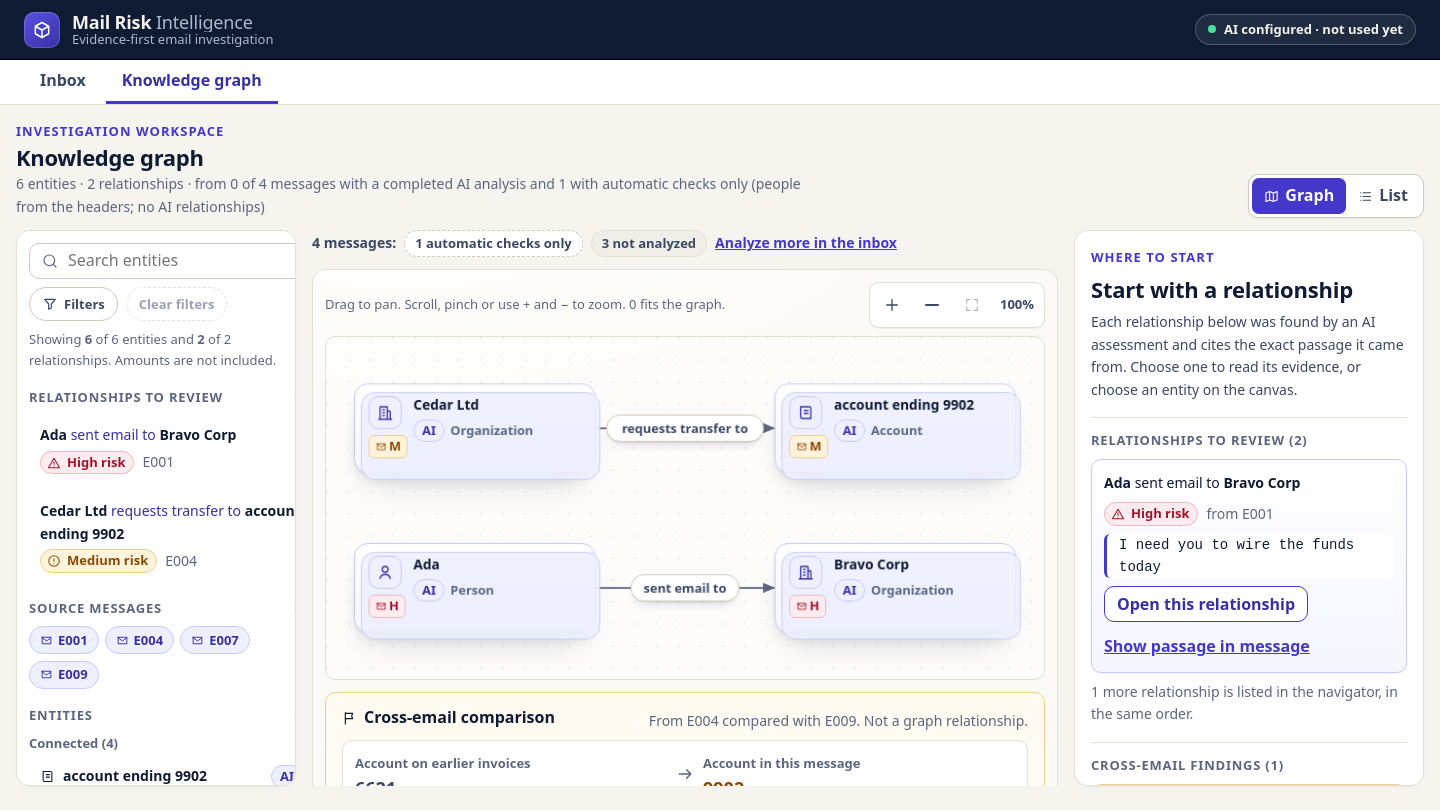
it: investigation workspace › selecting a relationship shows its sentence, exact quote, source message and the open-email action
Expected: the text "6 entities · 2 relationships" is shown, [16,174,801,216]
Click the button named "Relationship: Cedar Ltd requests transfer to account ending 9902".
click(685, 428)  # box [606,414,764,442]
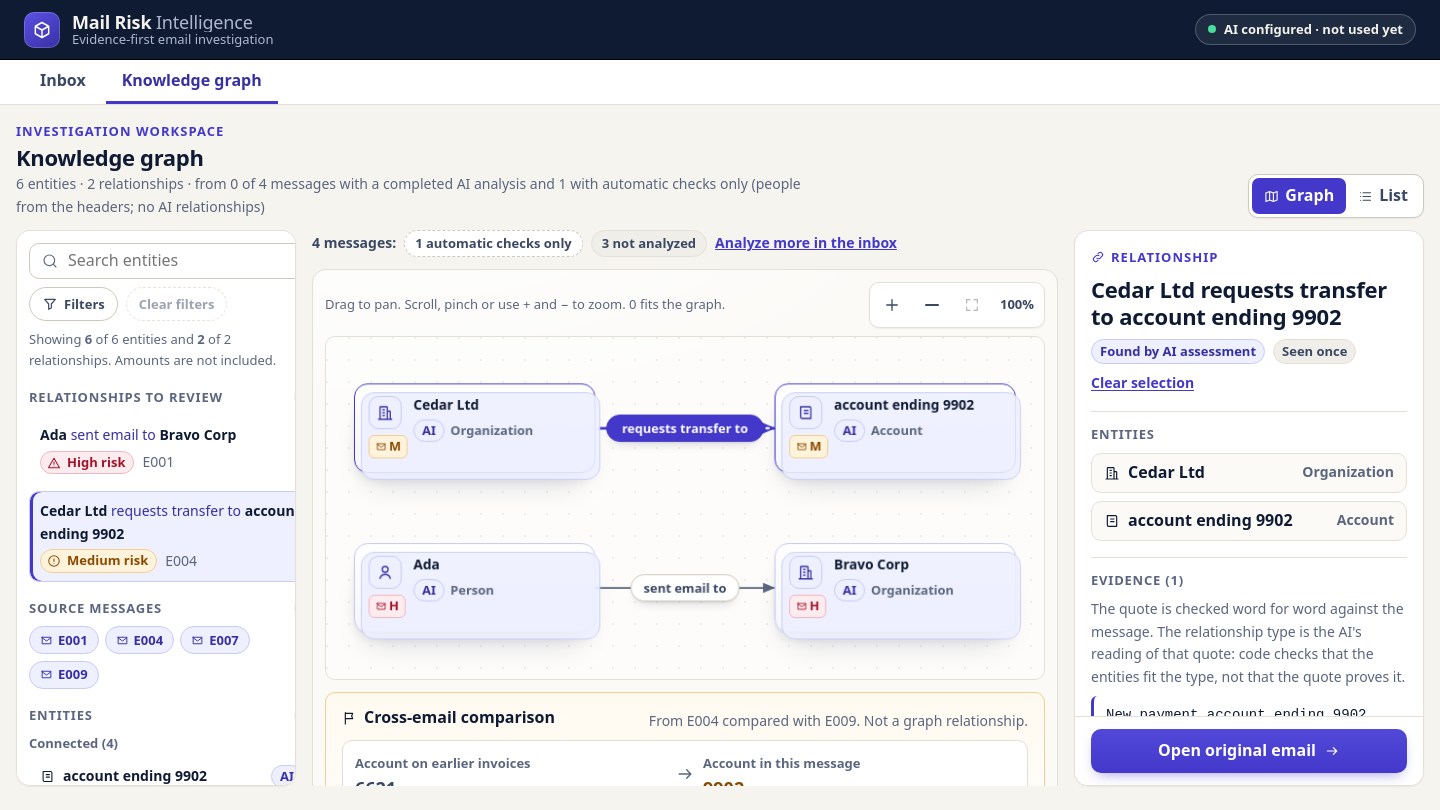
Expected: the heading "Cedar Ltd requests transfer to account ending 9902" is shown, [1091,276,1407,331]
